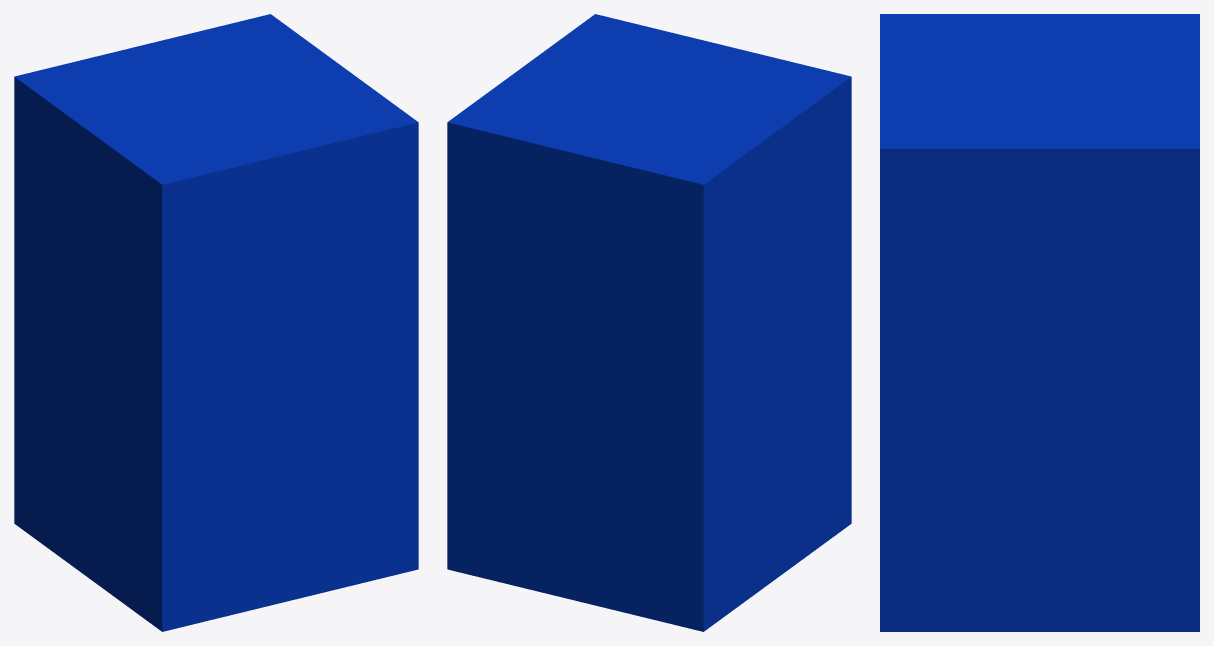
File: check1.fbx
3 renders of one model, left to right at view 1: azimuth 30°, elevation 25°; view 2: azimuth 150°, elevation 25°; view 3: azimuth 270°, elevation 25°, orthographic. The views are drawn at different scales.
Parts seen in each view (by area): view 1: pCube2; view 2: pCube2; view 3: pCube2.
Part boxes in pixels (box(x1,y1,x2,y2)): pCube2: box(14, 14, 418, 631); pCube2: box(447, 14, 851, 631); pCube2: box(880, 14, 1199, 631).
Size of the model in its own units: 1.5 by 2.5 by 1.5.
